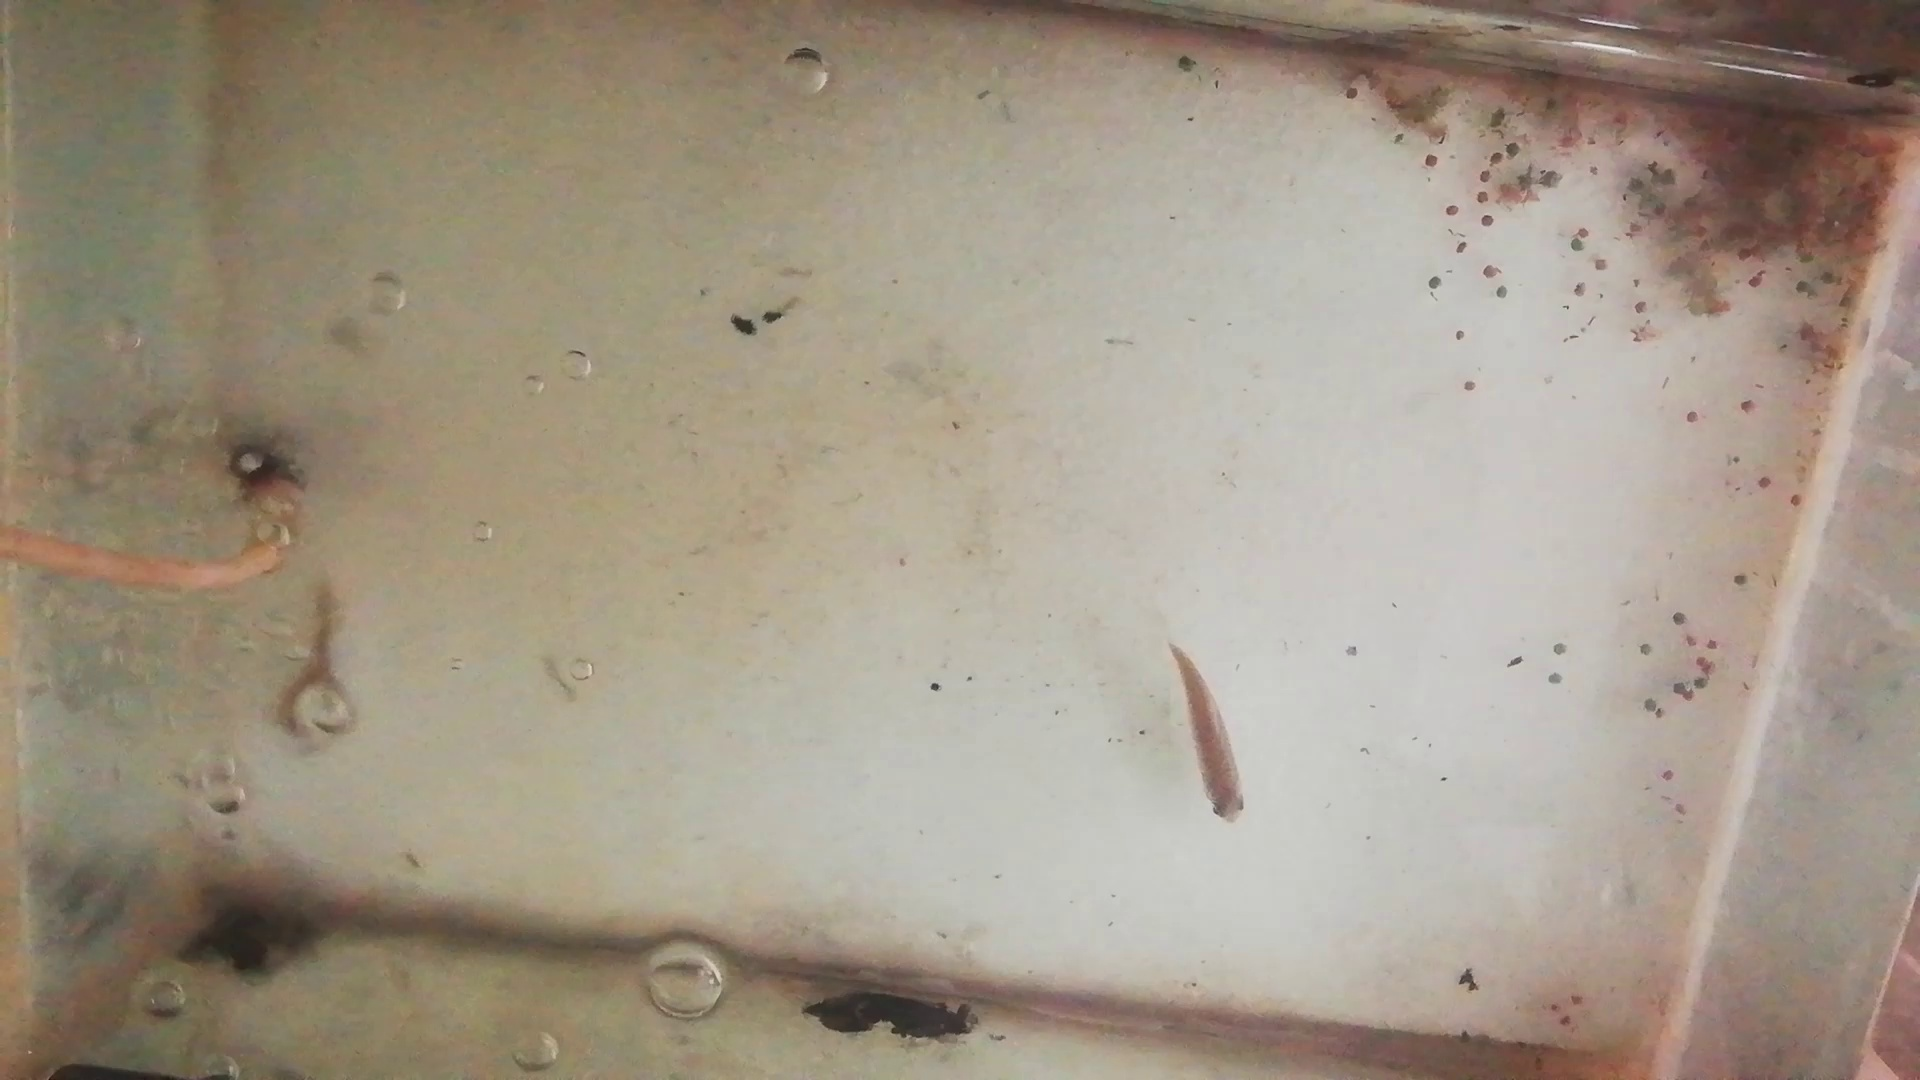fish: (1166, 644, 1247, 824), (287, 589, 347, 760)
